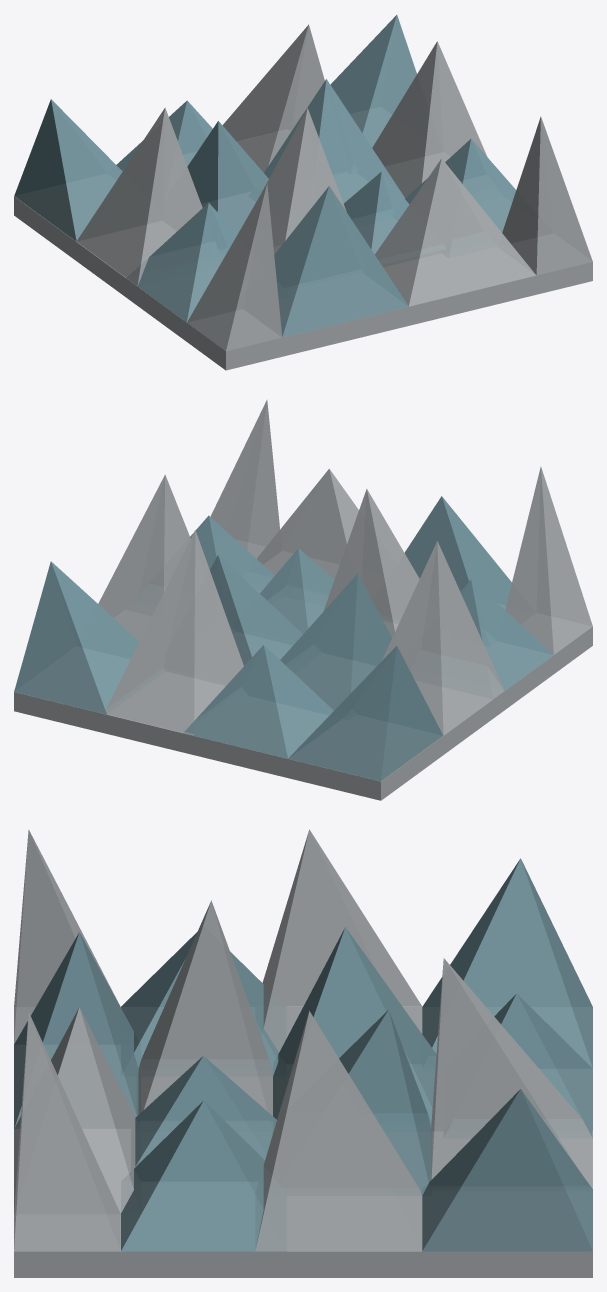
The model's file is floor_spikes.fbx.
3 renders of one model, top to bottom at view 1: azimuth 30°, elevation 25°; view 2: azimuth 150°, elevation 25°; view 3: azimuth 270°, elevation 25°, orthographic. The views are drawn at different scales.
Visible parts, largest first — view 1: piramide17; view 2: piramide17; view 3: piramide17.
Boxes of the visible parts, left/top/right/bottom form: piramide17: left=14, top=15, right=592, bottom=370; piramide17: left=14, top=399, right=592, bottom=800; piramide17: left=14, top=829, right=592, bottom=1277.
Size of the model in its own units: 100 by 44.92 by 100.
